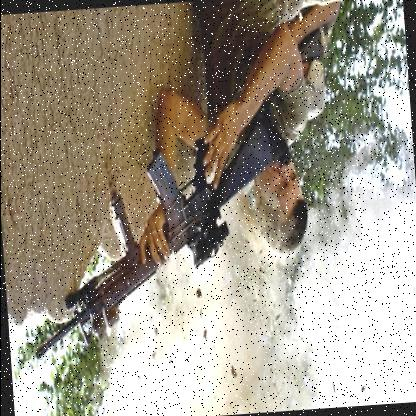rifle: (17, 97, 290, 364)
